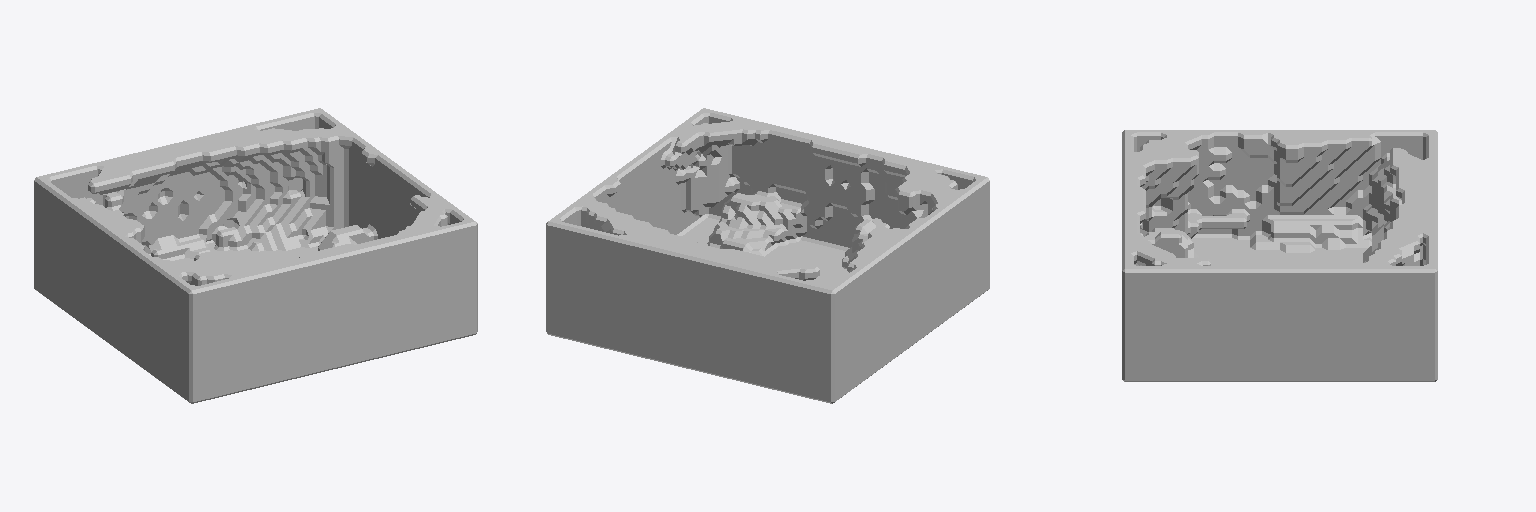
File: Input_prediction_mesh.obj
3 renders of one model, left to right at view 1: azimuth 30°, elevation 25°; view 2: azimuth 150°, elevation 25°; view 3: azimuth 270°, elevation 25°, orthographic.
Visible parts, largest first — view 1: mat0, mat2, mat1, mat3, mat6; view 2: mat0, mat3, mat2, mat1, mat5; view 3: mat0, mat1, mat2, mat3, mat6, mat5.
Boxes of the visible parts, box(x1,y1,x2,y2) form: mat0: box(34, 108, 477, 403); mat2: box(88, 125, 360, 260); mat1: box(67, 197, 305, 323); mat3: box(245, 195, 450, 335); mat6: box(361, 147, 379, 207); mat0: box(546, 108, 989, 403); mat3: box(661, 117, 901, 221); mat2: box(575, 191, 819, 363); mat1: box(816, 150, 967, 357); mat5: box(842, 215, 889, 268); mat0: box(1122, 130, 1437, 381); mat1: box(1122, 130, 1401, 262); mat2: box(1346, 148, 1437, 326); mat3: box(1122, 183, 1210, 265); mat6: box(1310, 264, 1339, 325); mat5: box(1145, 228, 1197, 257).
Size of the model in its own units: 4.48 by 1.68 by 4.24.